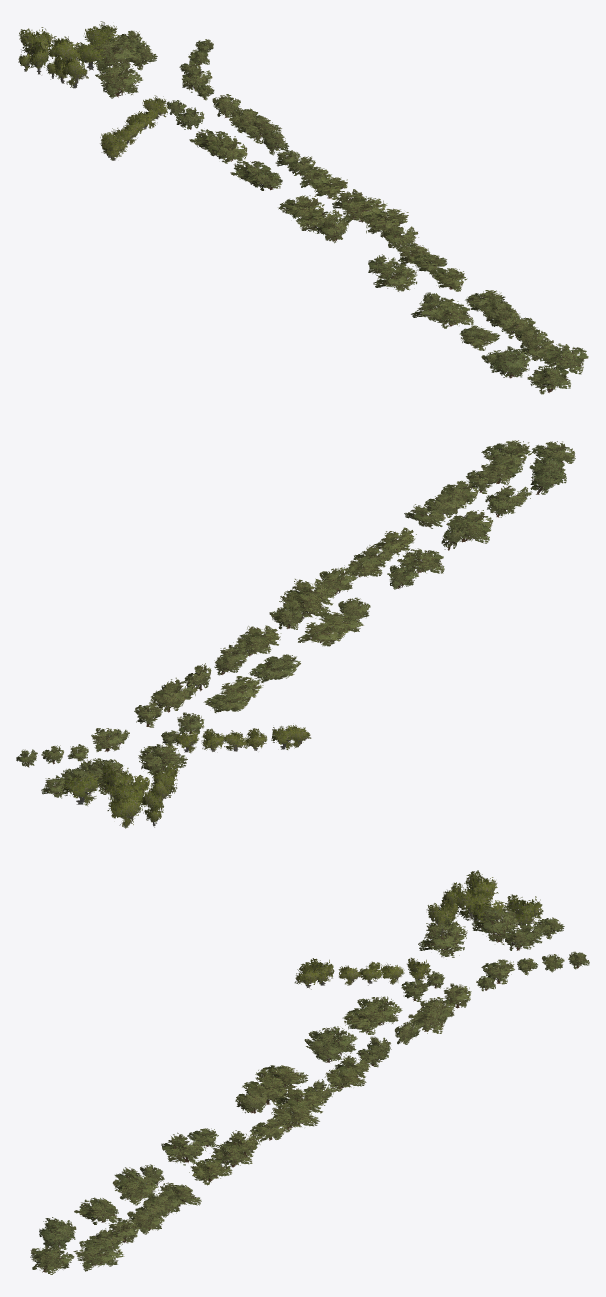
3 views of the same model, one above another, from view 1: azimuth 30°, elevation 25°; view 2: azimuth 150°, elevation 25°; view 3: azimuth 330°, elevation 25° (orthographic). The views are drawn at different scales.
Parts seen in each view (by area): view 1: geometry_0; view 2: geometry_0; view 3: geometry_0.
Part boxes in pixels (x1=…): geometry_0: x1=18, y1=21, x2=588, y2=394; geometry_0: x1=16, y1=440, x2=575, y2=828; geometry_0: x1=30, y1=870, x2=589, y2=1274.
Size of the model in its own units: 110 by 17.61 by 459.
Materials: 1 (1 with a texture image).
